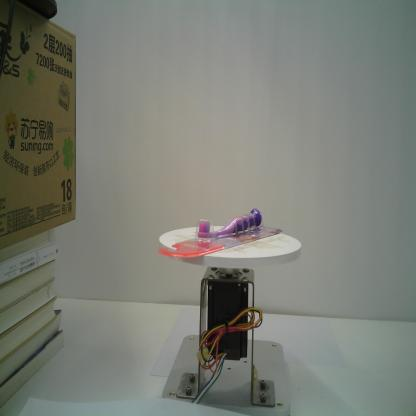Personal Hygiene: (158, 207, 283, 258)
